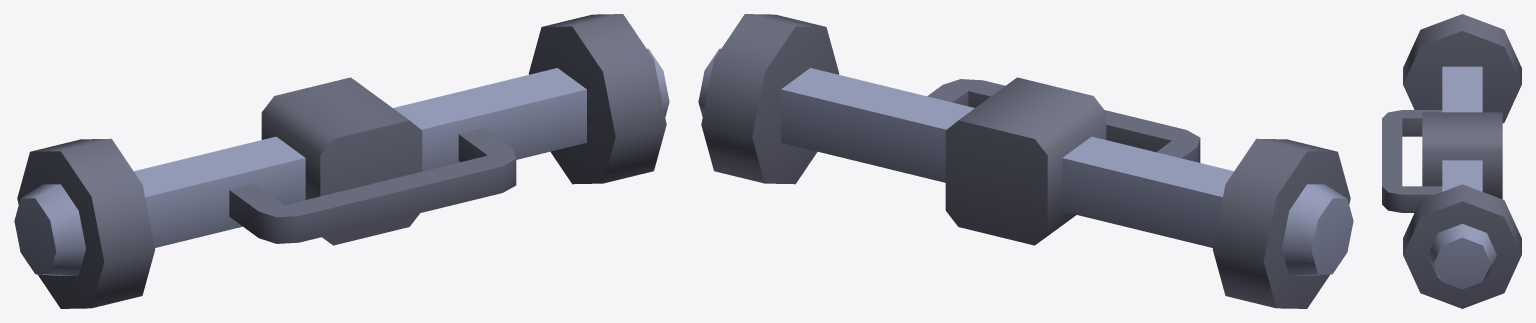
The model's file is debris-drivetrain-axle.glb.
3 renders of one model, left to right at view 1: azimuth 30°, elevation 25°; view 2: azimuth 150°, elevation 25°; view 3: azimuth 270°, elevation 25°, orthographic. The views are drawn at different scales.
Parts seen in each view (by area): view 1: debris-drivetrain-axle; view 2: debris-drivetrain-axle; view 3: debris-drivetrain-axle.
Part boxes in pixels (box(x1,y1,x2,y2)): debris-drivetrain-axle: box(14, 14, 669, 308); debris-drivetrain-axle: box(698, 14, 1353, 308); debris-drivetrain-axle: box(1382, 14, 1521, 308).
Size of the model in its own units: 1.2 by 0.296 by 0.348.
